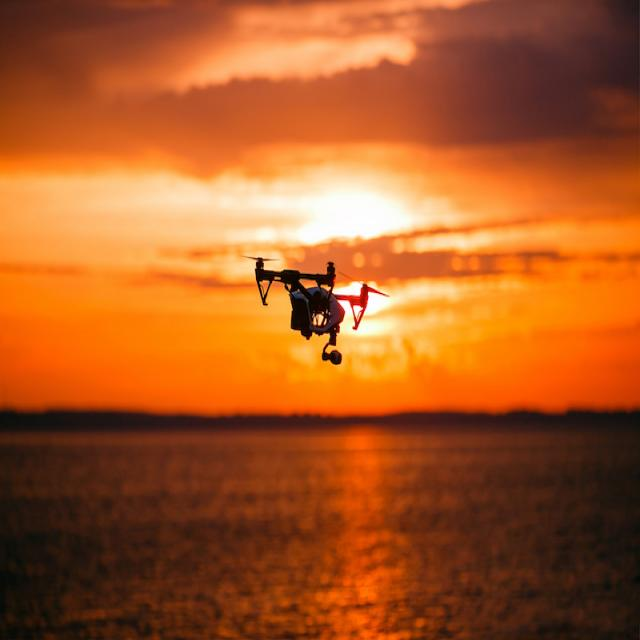drones: (237, 246, 394, 386)
